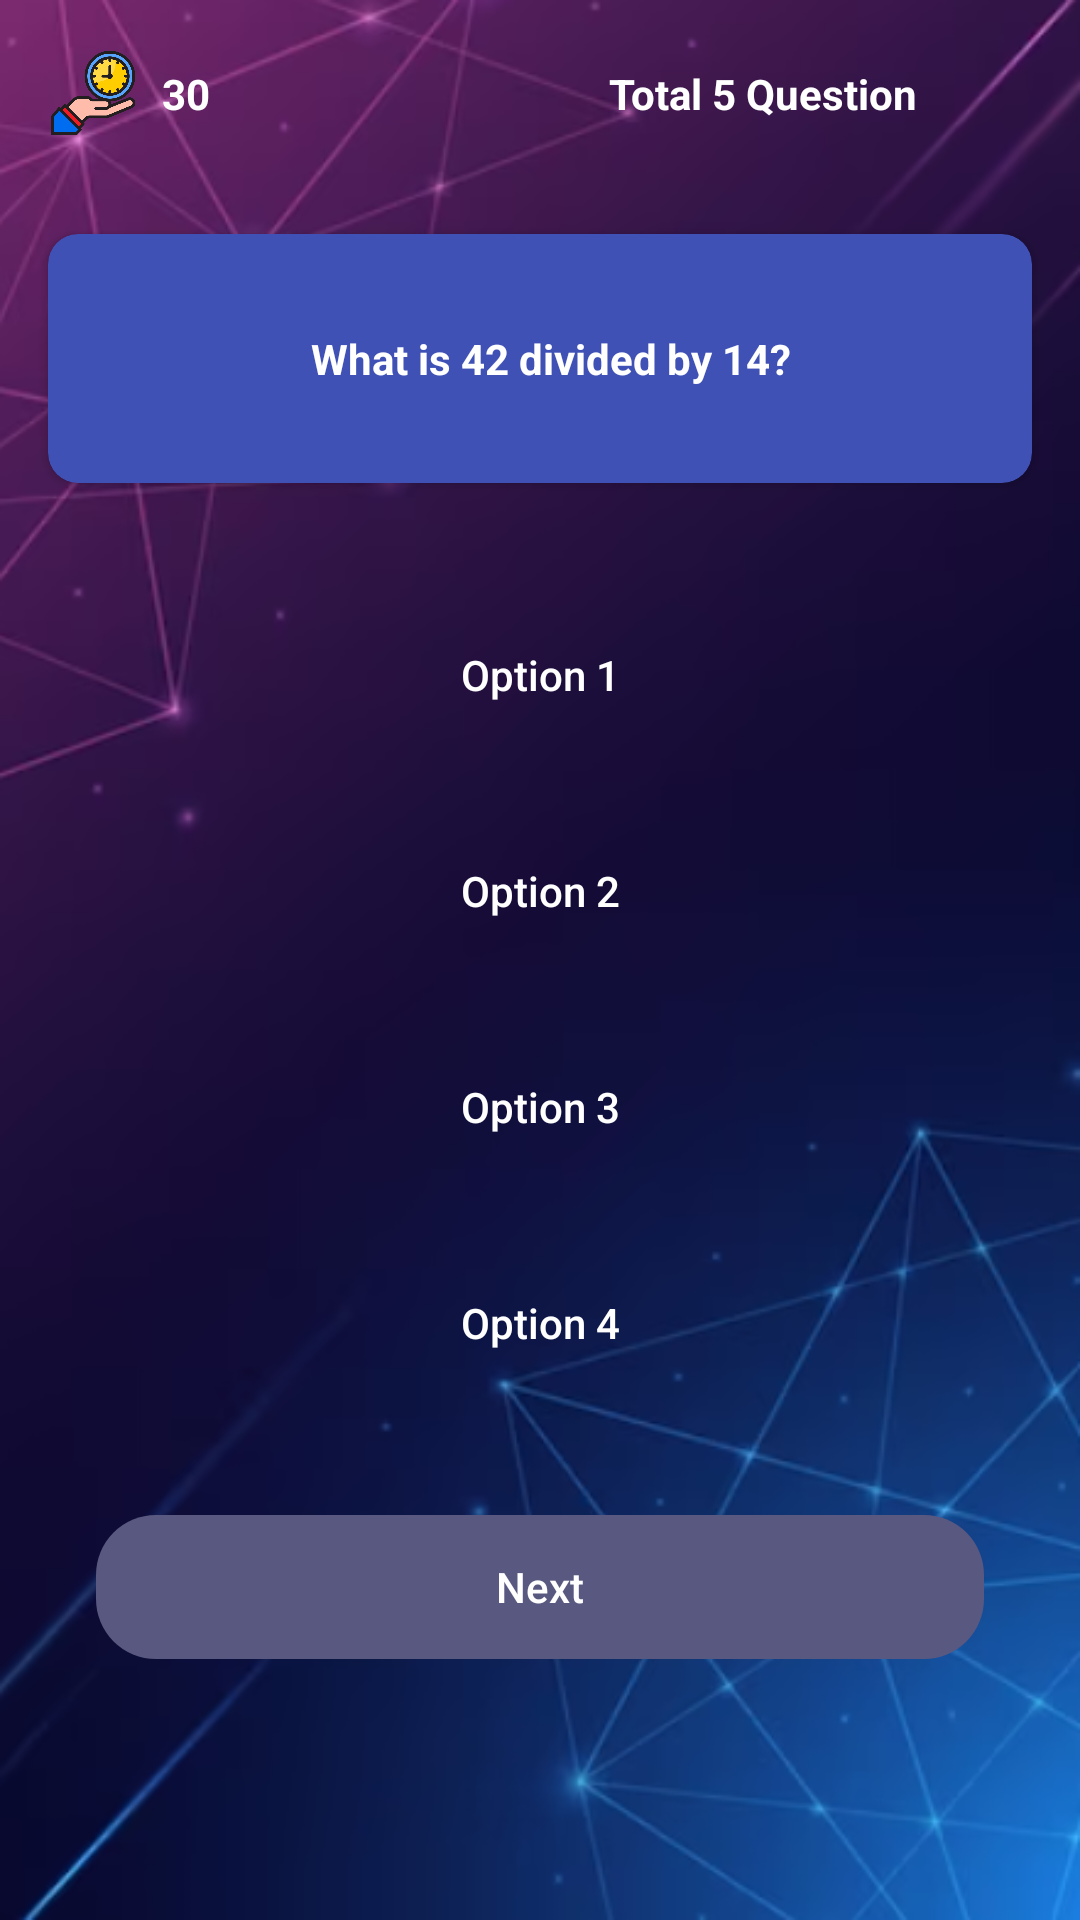

Where icons sit on this 1080*1920 app screen, as (x1, y1, x2, y2):
timeout: (51, 48, 138, 138)
